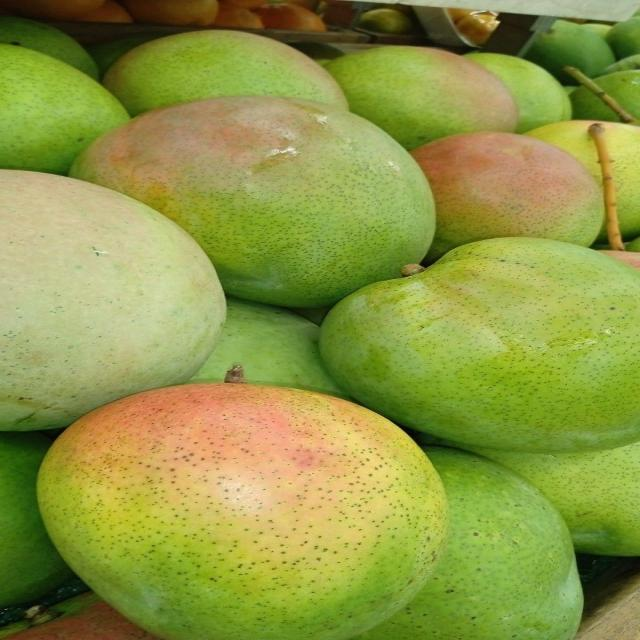mango: (37, 382, 447, 640), (69, 96, 435, 306), (320, 237, 639, 452), (0, 170, 225, 431), (357, 448, 582, 640), (410, 132, 602, 262), (444, 440, 639, 556), (103, 30, 348, 116), (325, 46, 518, 150), (0, 44, 128, 175), (188, 298, 350, 399), (525, 120, 639, 240), (0, 432, 73, 609), (463, 52, 572, 133), (0, 16, 97, 80), (525, 20, 614, 84)
